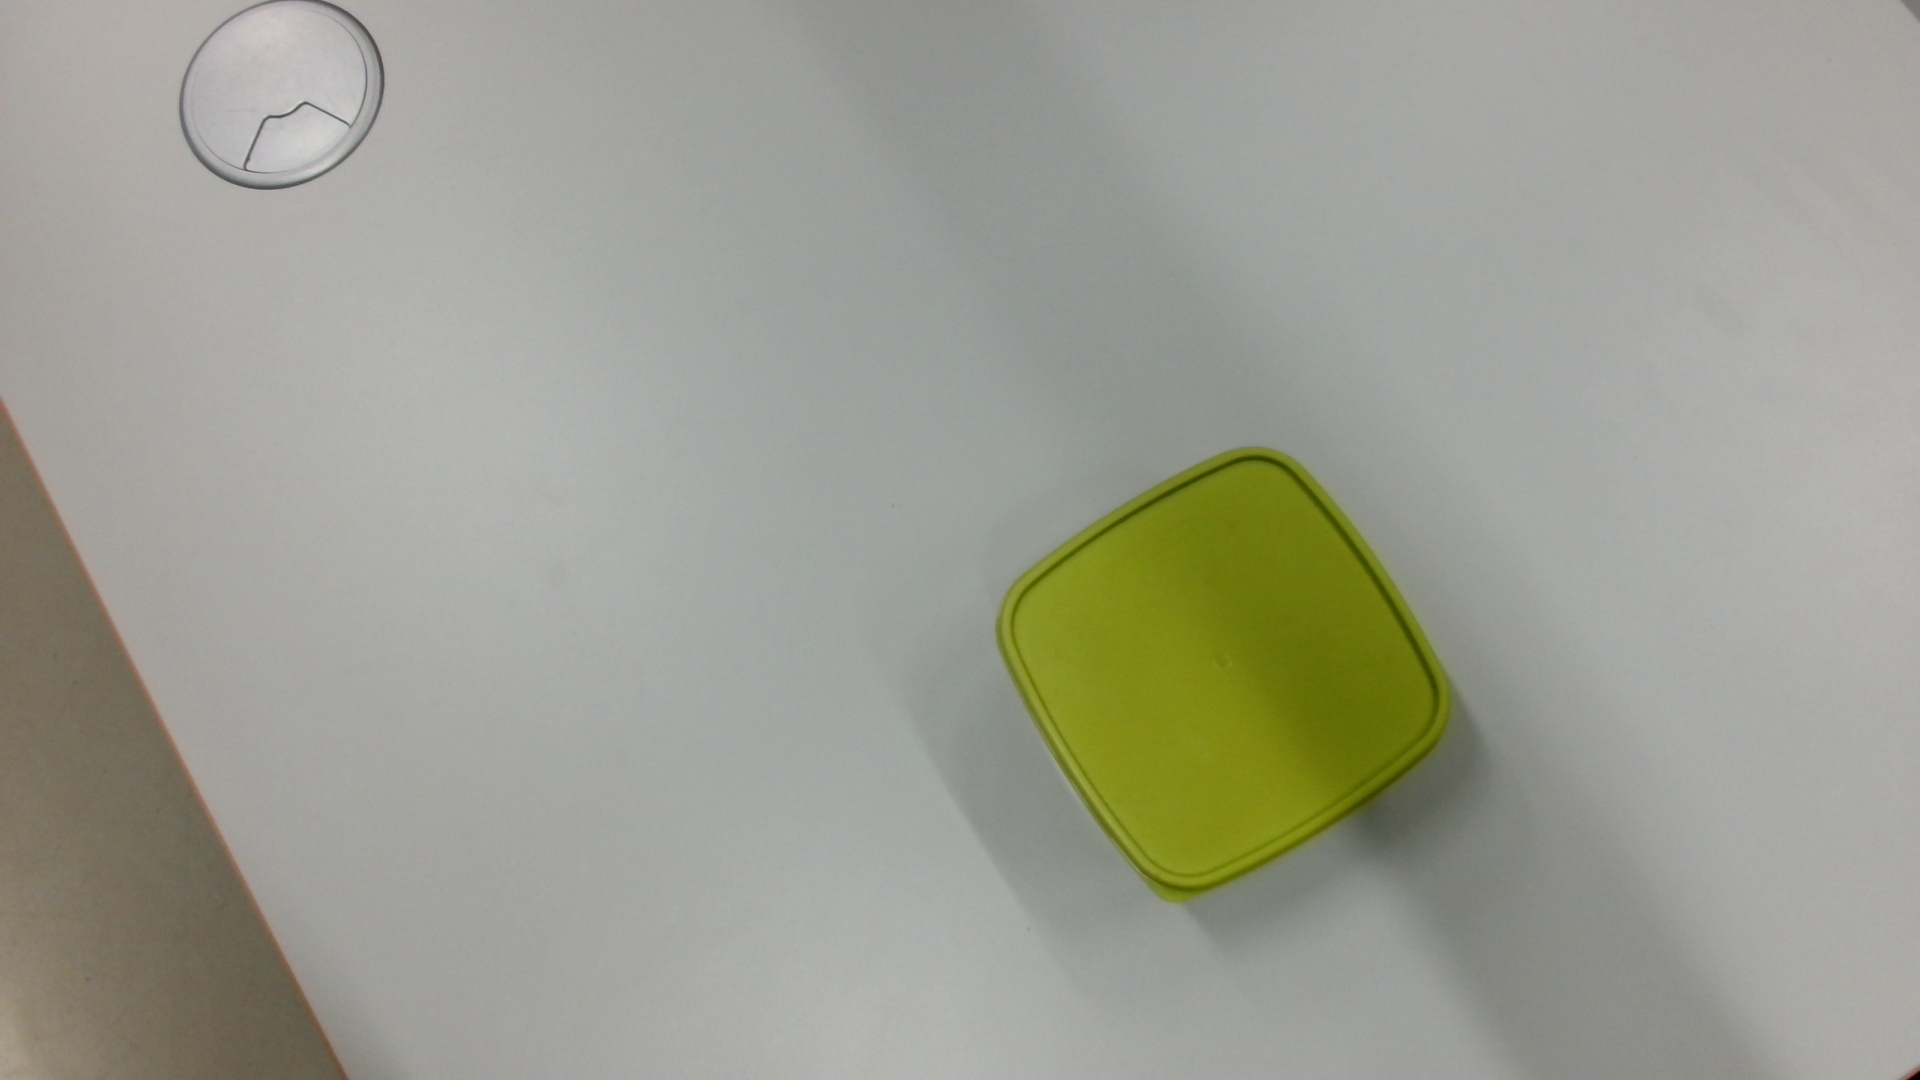Box: (988, 442, 1461, 916)
